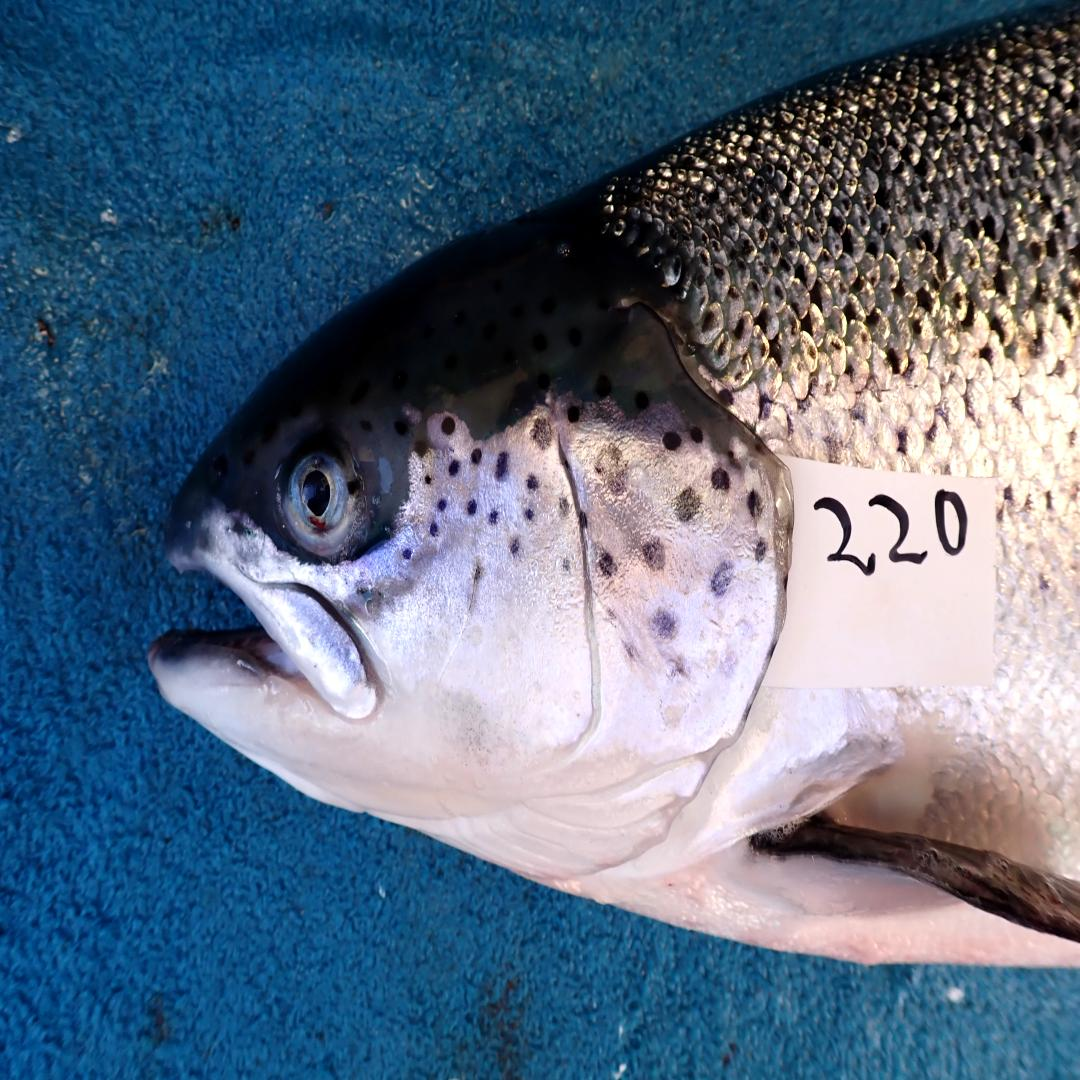roi: (375, 389, 791, 885)
